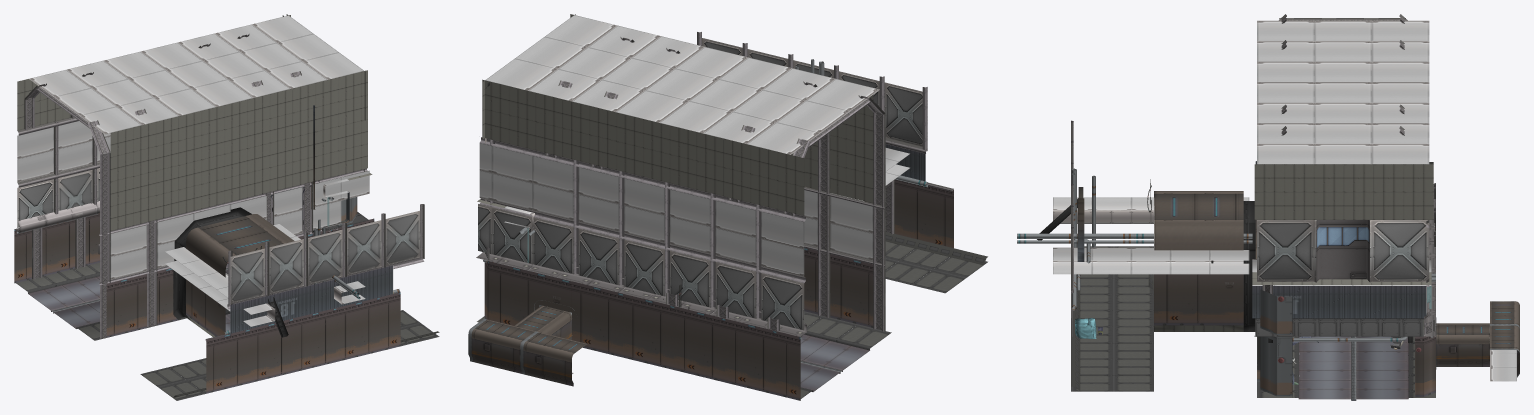
File: jijiaku.FBX
3 renders of one model, left to right at view 1: azimuth 30°, elevation 25°; view 2: azimuth 150°, elevation 25°; view 3: azimuth 270°, elevation 25°, orthographic. The views are drawn at different scales.
Visible parts, largest first — view 1: jijiaku_06, jijiaku_04, jijiaku_08, jijiaku_07, jijiaku_03; view 2: jijiaku_07, jijiaku_08, jijiaku_06, jijiaku_04, jijiaku_03; view 3: jijiaku_08, jijiaku_04, jijiaku_03, jijiaku_07, jijiaku_06, jijiaku_01.
Part boxes in pixels (left/top/right/bottom): jijiaku_06: left=99, top=70, right=374, bottom=338; jijiaku_04: left=140, top=204, right=439, bottom=400; jijiaku_08: left=24, top=14, right=372, bottom=232; jijiaku_07: left=14, top=15, right=290, bottom=283; jijiaku_03: left=16, top=262, right=228, bottom=340; jijiaku_07: left=468, top=79, right=806, bottom=400; jijiaku_08: left=477, top=14, right=885, bottom=269; jijiaku_06: left=570, top=14, right=885, bottom=331; jijiaku_04: left=697, top=32, right=987, bottom=293; jijiaku_03: left=477, top=311, right=891, bottom=398; jijiaku_08: left=1252, top=14, right=1435, bottom=342; jijiaku_04: left=1017, top=120, right=1252, bottom=391; jijiaku_03: left=1257, top=336, right=1435, bottom=400; jijiaku_07: left=1415, top=183, right=1519, bottom=396; jijiaku_06: left=1243, top=201, right=1292, bottom=397; jijiaku_01: left=1254, top=220, right=1403, bottom=384.
Bounding box in the file's own units: 59.14 × 42.38 × 80.84.
